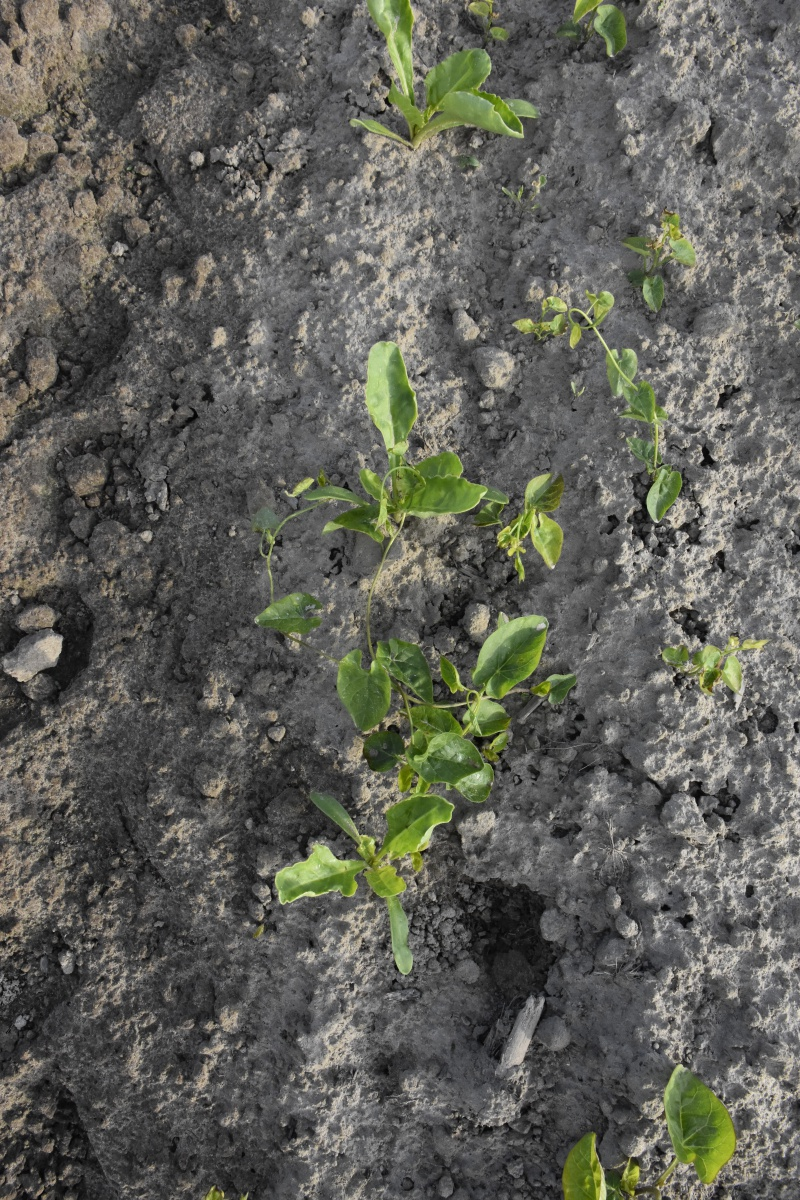field bindweed: (251, 468, 568, 786), (534, 291, 681, 531), (547, 1059, 752, 1200), (630, 216, 718, 311), (664, 628, 770, 701), (500, 468, 567, 582)
sugar beet: (313, 338, 481, 536), (338, 1, 536, 169), (276, 789, 446, 975)
